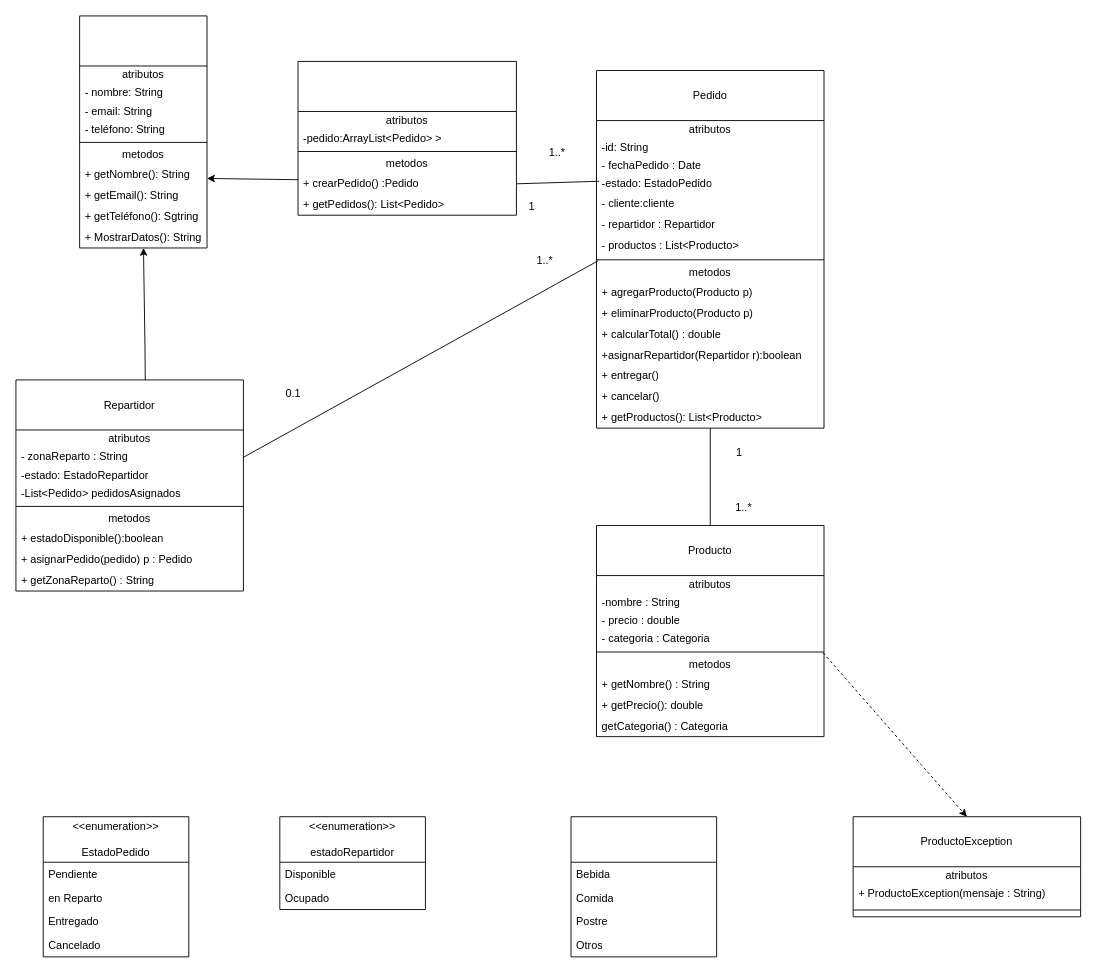
Some shapes in this 1097 by 976 pixel diagram are drawn without their labels. Here are the shapes that lost their labels. From the top down, the box of each, then its label:
(79, 15, 207, 248): <<abstract>> Usuario
(297, 61, 516, 215): Cliente
(570, 816, 717, 957): <<enumeration>> Categoria
